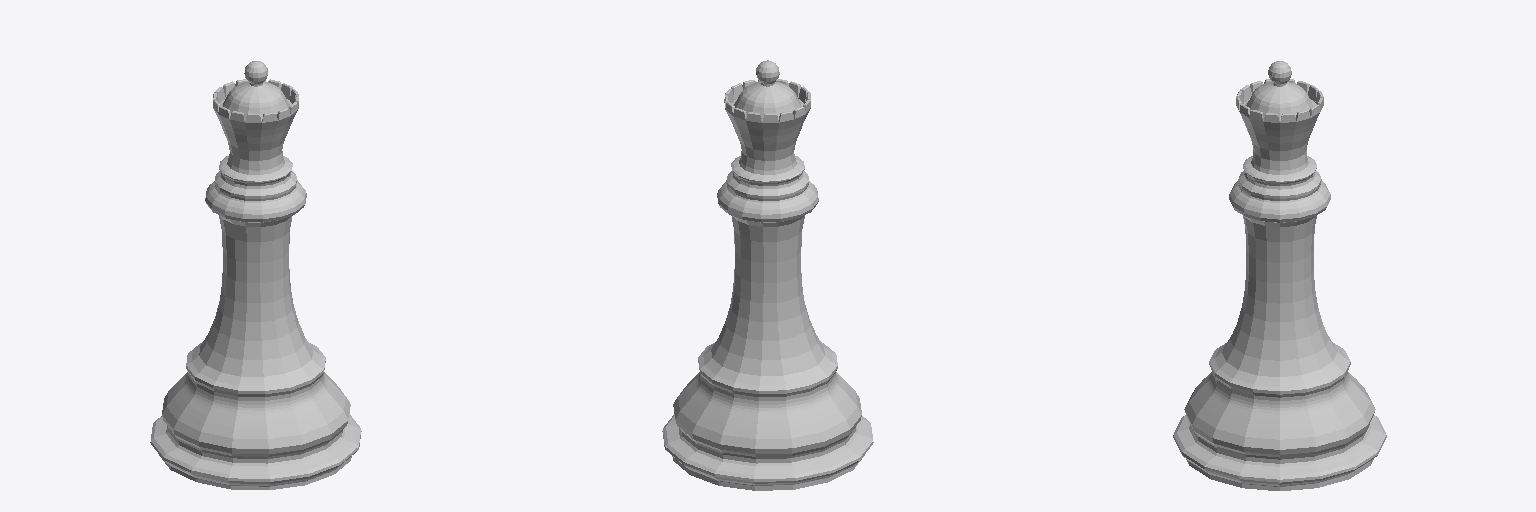
Rendered from bqueen.obj.
The picture shows the model from 3 angles: view 1: azimuth 30°, elevation 25°; view 2: azimuth 150°, elevation 25°; view 3: azimuth 270°, elevation 25°; orthographic projection.
Parts seen in each view (by area): view 1: BlackQueen_Cylinder.030; view 2: BlackQueen_Cylinder.030; view 3: BlackQueen_Cylinder.030.
Part boxes in pixels (x1,y1,x2,y2): BlackQueen_Cylinder.030: (150,61,361,489); BlackQueen_Cylinder.030: (662,60,873,490); BlackQueen_Cylinder.030: (1173,61,1386,490).
Size of the model in its own units: 1.43 by 2.86 by 1.43.